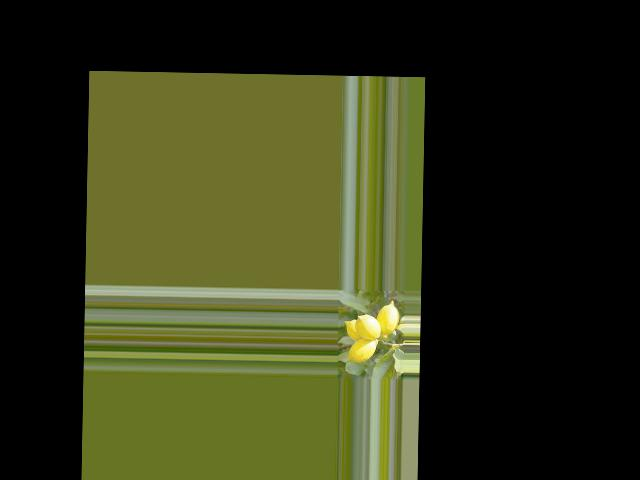lemon: (339, 314, 371, 343)
